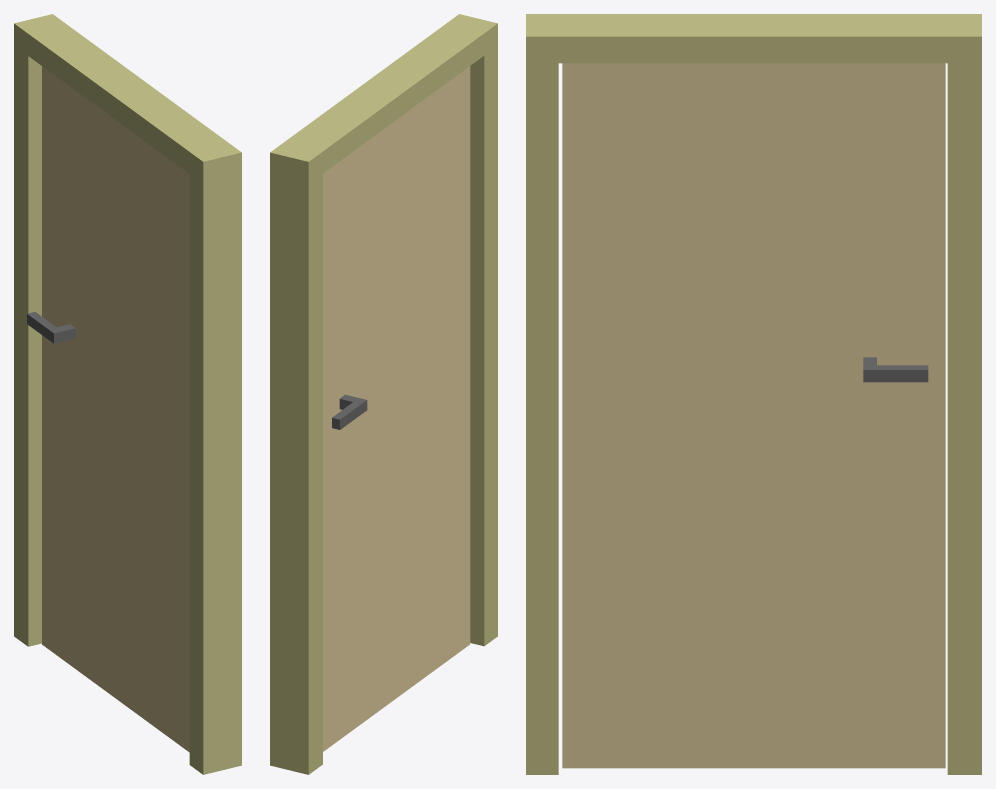
Rendered from doorTransparent.fbx.
3 renders of one model, left to right at view 1: azimuth 30°, elevation 25°; view 2: azimuth 150°, elevation 25°; view 3: azimuth 270°, elevation 25°, orthographic. The views are drawn at different scales.
Visible parts, largest first — view 1: doorTransparent; view 2: doorTransparent; view 3: doorTransparent.
Boxes of the visible parts, x1=… form: doorTransparent: x1=14, y1=14, x2=241, y2=774; doorTransparent: x1=270, y1=14, x2=497, y2=774; doorTransparent: x1=526, y1=14, x2=981, y2=774.
Bounding box in the file's own units: 24.81 × 250 × 140.
